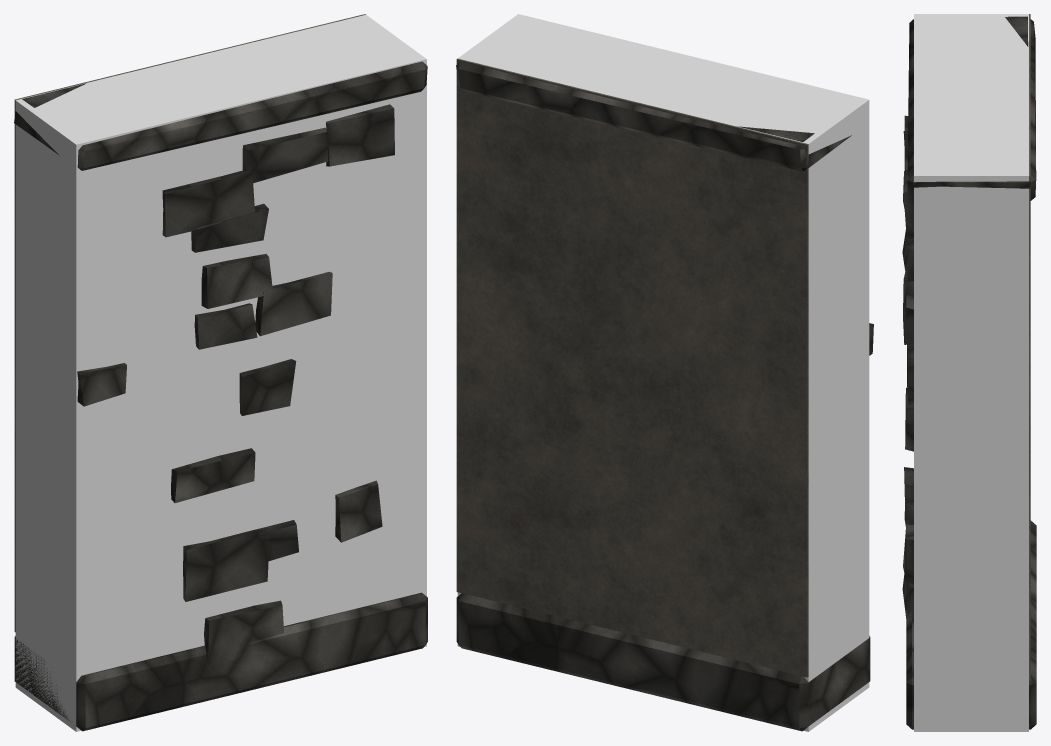
File: ak_wall_stone_2x3_a.glb
3 renders of one model, left to right at view 1: azimuth 30°, elevation 25°; view 2: azimuth 150°, elevation 25°; view 3: azimuth 270°, elevation 25°, orthographic. The views are drawn at different scales.
Parts seen in each view (by area): view 1: col_wall, wall_stones, wall_plaster; view 2: wall_plaster, col_wall, wall_stones; view 3: col_wall, wall_stones, wall_plaster.
Boxes of the visible parts, x1,y1,x2,y2 form: col_wall: [15, 15, 426, 731]; wall_stones: [14, 61, 427, 731]; wall_plaster: [14, 14, 365, 632]; wall_plaster: [456, 58, 808, 677]; col_wall: [457, 14, 869, 731]; wall_stones: [456, 61, 873, 731]; col_wall: [914, 14, 1028, 731]; wall_stones: [902, 16, 1036, 729]; wall_plaster: [1029, 14, 1030, 679].
Bounding box in the file's own units: 2.01 × 3.2 × 0.6997.
Materials: 2 (2 with a texture image).
